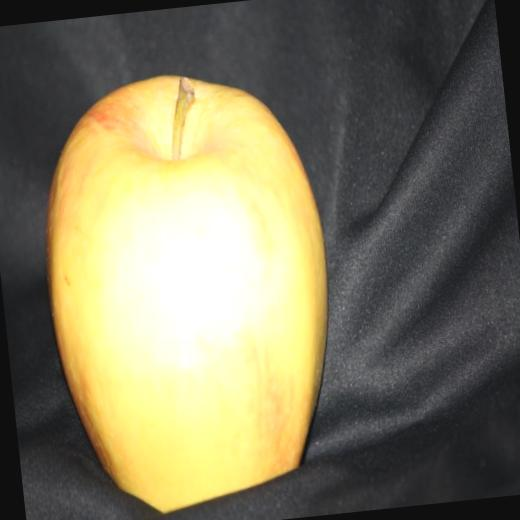Apple: (26, 57, 352, 520)
